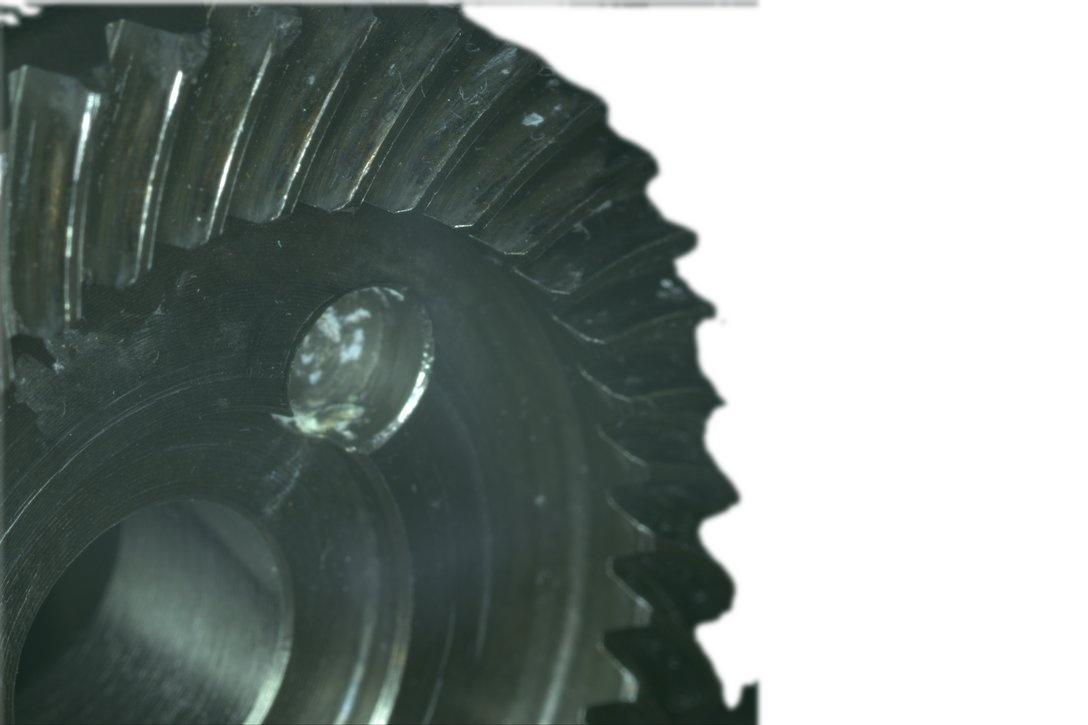defect: (258, 6, 305, 75), (176, 27, 218, 96), (75, 65, 110, 135), (346, 9, 383, 66)
